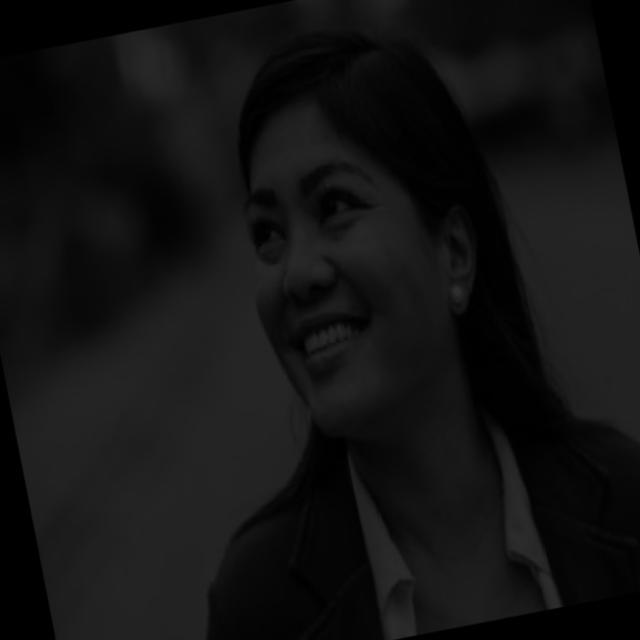happy: (215, 89, 465, 442)
